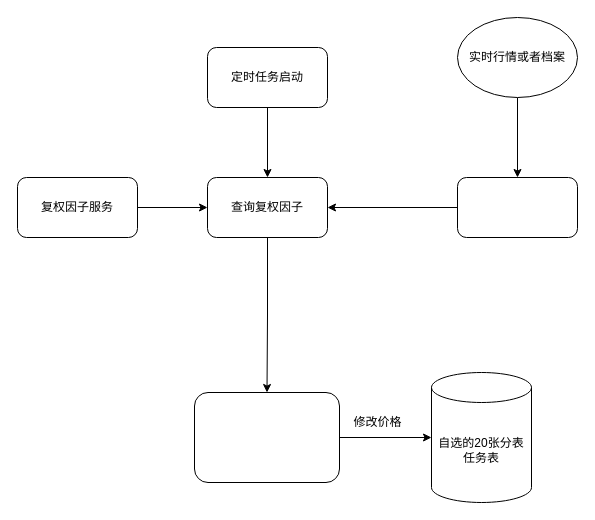
The diagram is 595 pixels wide and 520 high, and some of its shapes have lost their labels. The box of each missing label's shape, as (x1, y1, x2, y2) in pixels:
kafka listener 监听消息: (456, 176, 578, 238)
扫描20张分表，修改价格 同步更新任务表: (194, 392, 340, 482)
